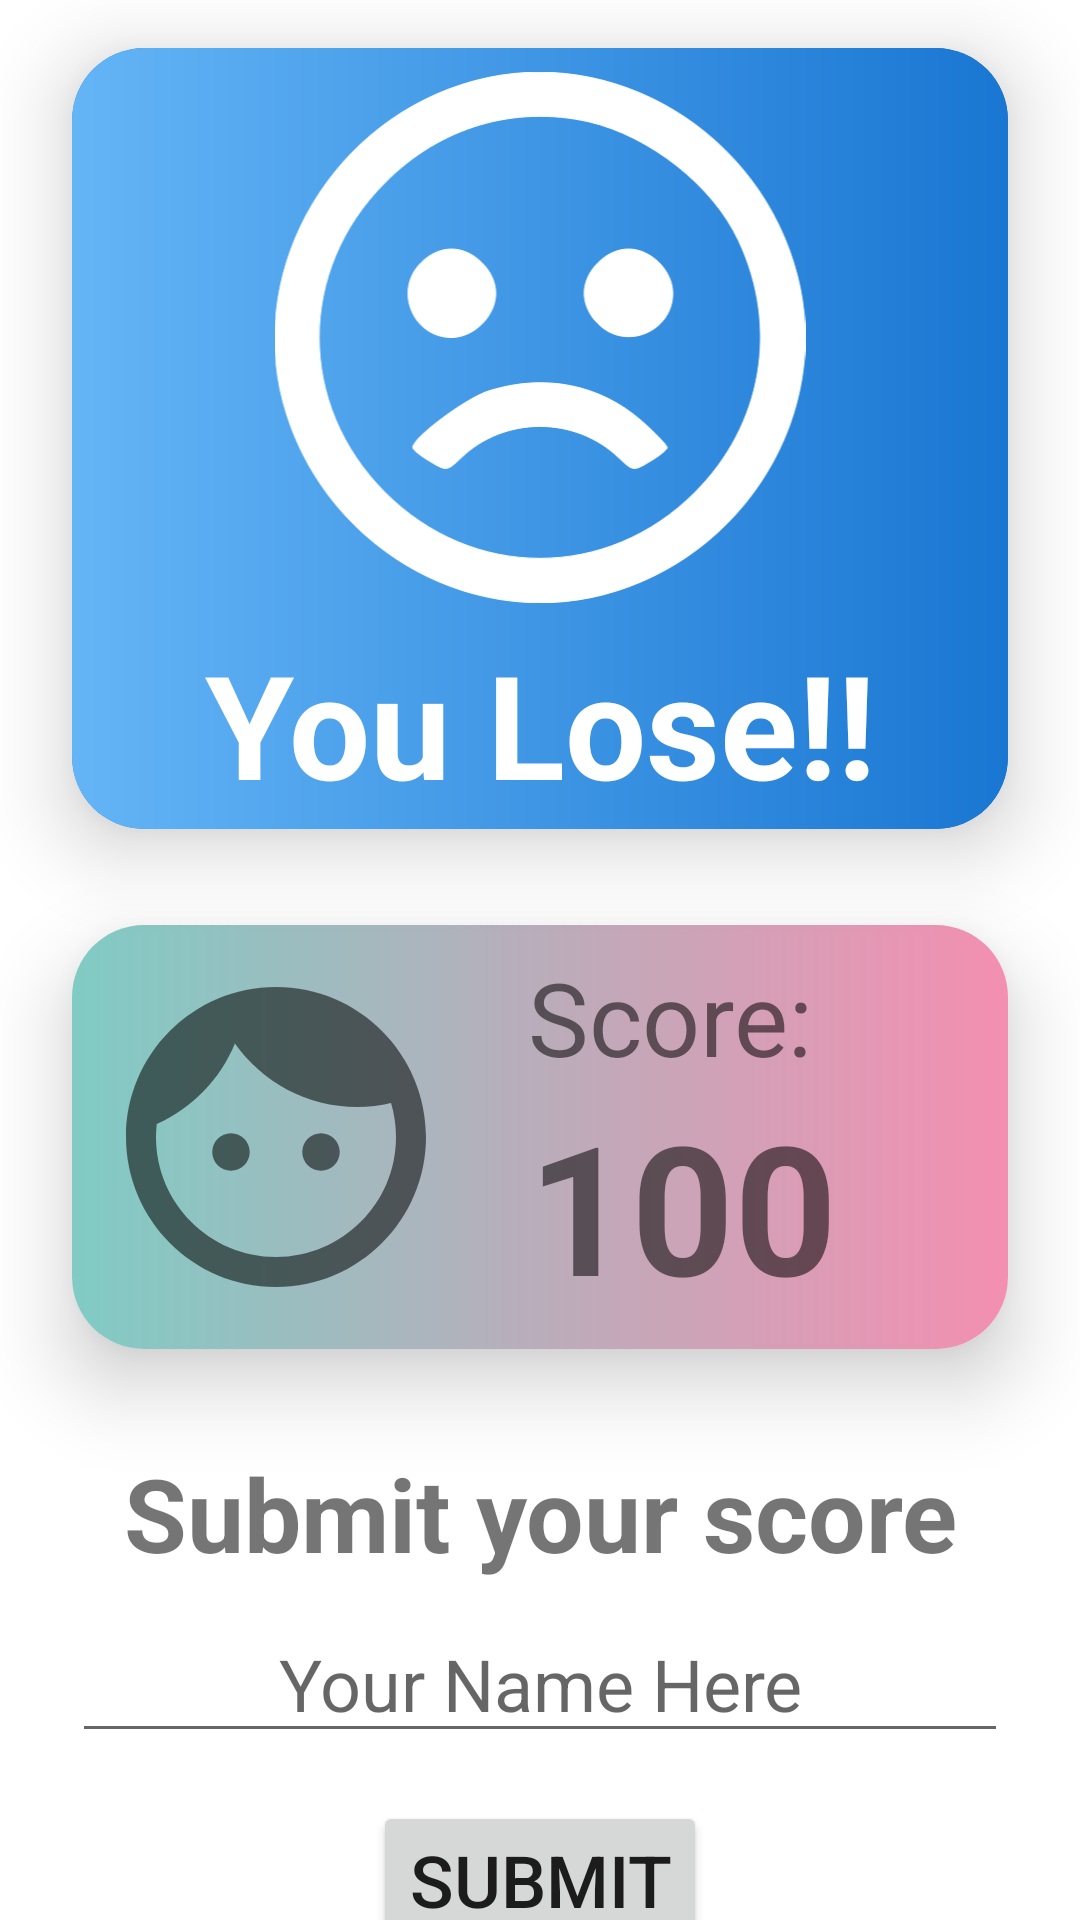

Icon click points for this 1080 x 1920 phone screenshot, format [x,y]:
face: [276,1137]
